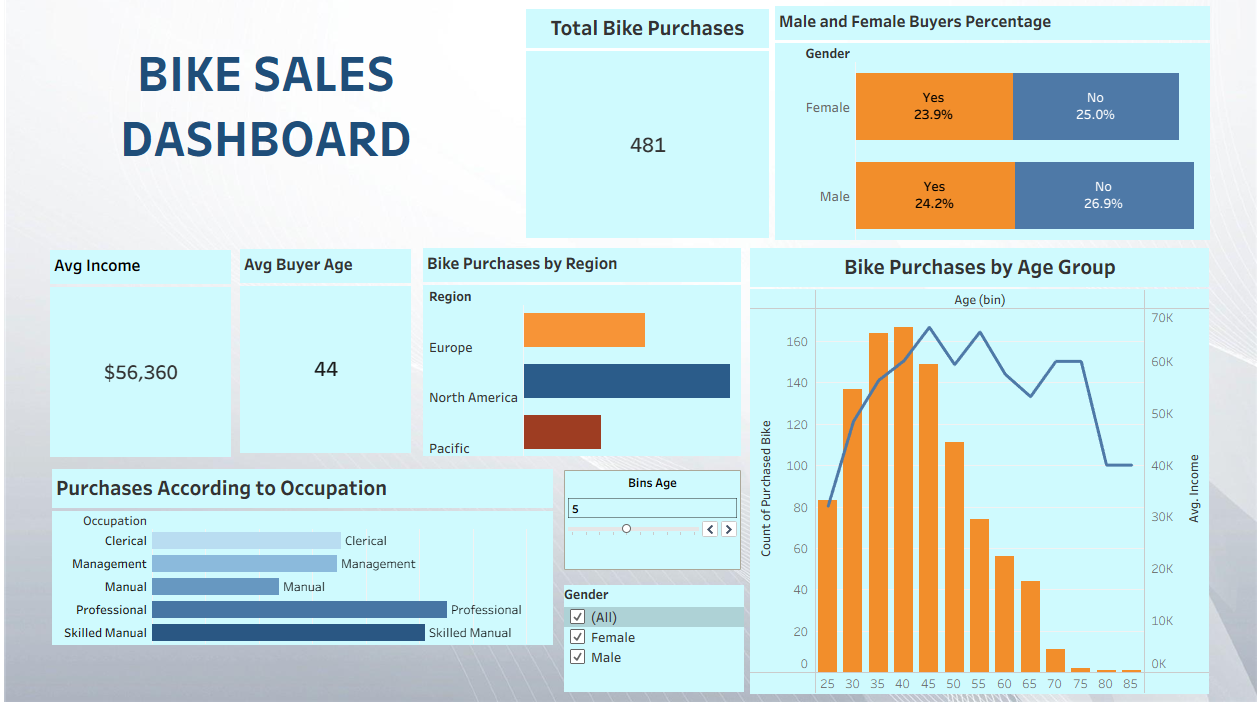

The dashboard page shown, as its layout file describes it:
{"tool":"tableau","page":{"name":"Sales Dashboard","canvas":[1000,1000],"units":"permille","ordinal":0},"visuals":[{"type":"worksheet","title":"Male and Female Buyers Percentage","mark":"Bar","rows":["Gender"],"cols":["Gender"],"box":[605.1,8.6,319.1,316.8]},{"type":"worksheet","title":"Total Bike Purchases","mark":"Automatic","box":[452.5,12,148.2,309.9]},{"type":"text","box":[76.7,17.1,364.4,299.7]},{"type":"worksheet","title":"Bike Purchases by Region","mark":"Bar","rows":["Region"],"cols":["Purchased Bike"],"box":[347.9,335.6,232.8,282.5]},{"type":"worksheet","title":"Bike Purchases by Age Group","mark":"Automatic","rows":["Purchased Bike (copy)_0913712056971270","Income"],"cols":["Age (bin)"],"box":[586.8,335.6,336.5,604.5]},{"type":"worksheet","title":"Avg Buyer Age","mark":"Automatic","box":[213.6,337.3,125.5,282.5]},{"type":"worksheet","title":"Avg Income","mark":"Automatic","box":[75,339,132.5,280.8]},{"type":"worksheet","title":"Purchases According to Occupation","mark":"Automatic","rows":["Occupation"],"cols":["Purchased Bike"],"box":[75.9,635.3,367,308.2]},{"type":"parameter","param":"[Parameters].[Parameter 0913712058548231]","box":[450.7,637,129.9,135.3]},{"type":"filter","title":"Avg Income","param":"[federated.17ibz7g1uhy47011rime11lw78br].[none:Gender:nk]","box":[450.7,792.8,131.7,145.6]}]}

Visuals, with their boxes on the dashboard's canvas, which has no fixed pixel size, in thousandths of its width and height (x1, y1, x2, y2). These are canvas units, not pixel positions in the 1259x702 screenshot, which may show the page scaled, cropped or inside an application window:
"Male and Female Buyers Percentage" worksheet (Bar marks): bbox(605, 9, 924, 325)
"Total Bike Purchases" worksheet: bbox(452, 12, 601, 322)
text: bbox(77, 17, 441, 317)
"Bike Purchases by Region" worksheet (Bar marks): bbox(348, 336, 581, 618)
"Bike Purchases by Age Group" worksheet: bbox(587, 336, 923, 940)
"Avg Buyer Age" worksheet: bbox(214, 337, 339, 620)
"Avg Income" worksheet: bbox(75, 339, 208, 620)
"Purchases According to Occupation" worksheet: bbox(76, 635, 443, 944)
parameter: bbox(451, 637, 581, 772)
"Avg Income" filter: bbox(451, 793, 582, 938)
